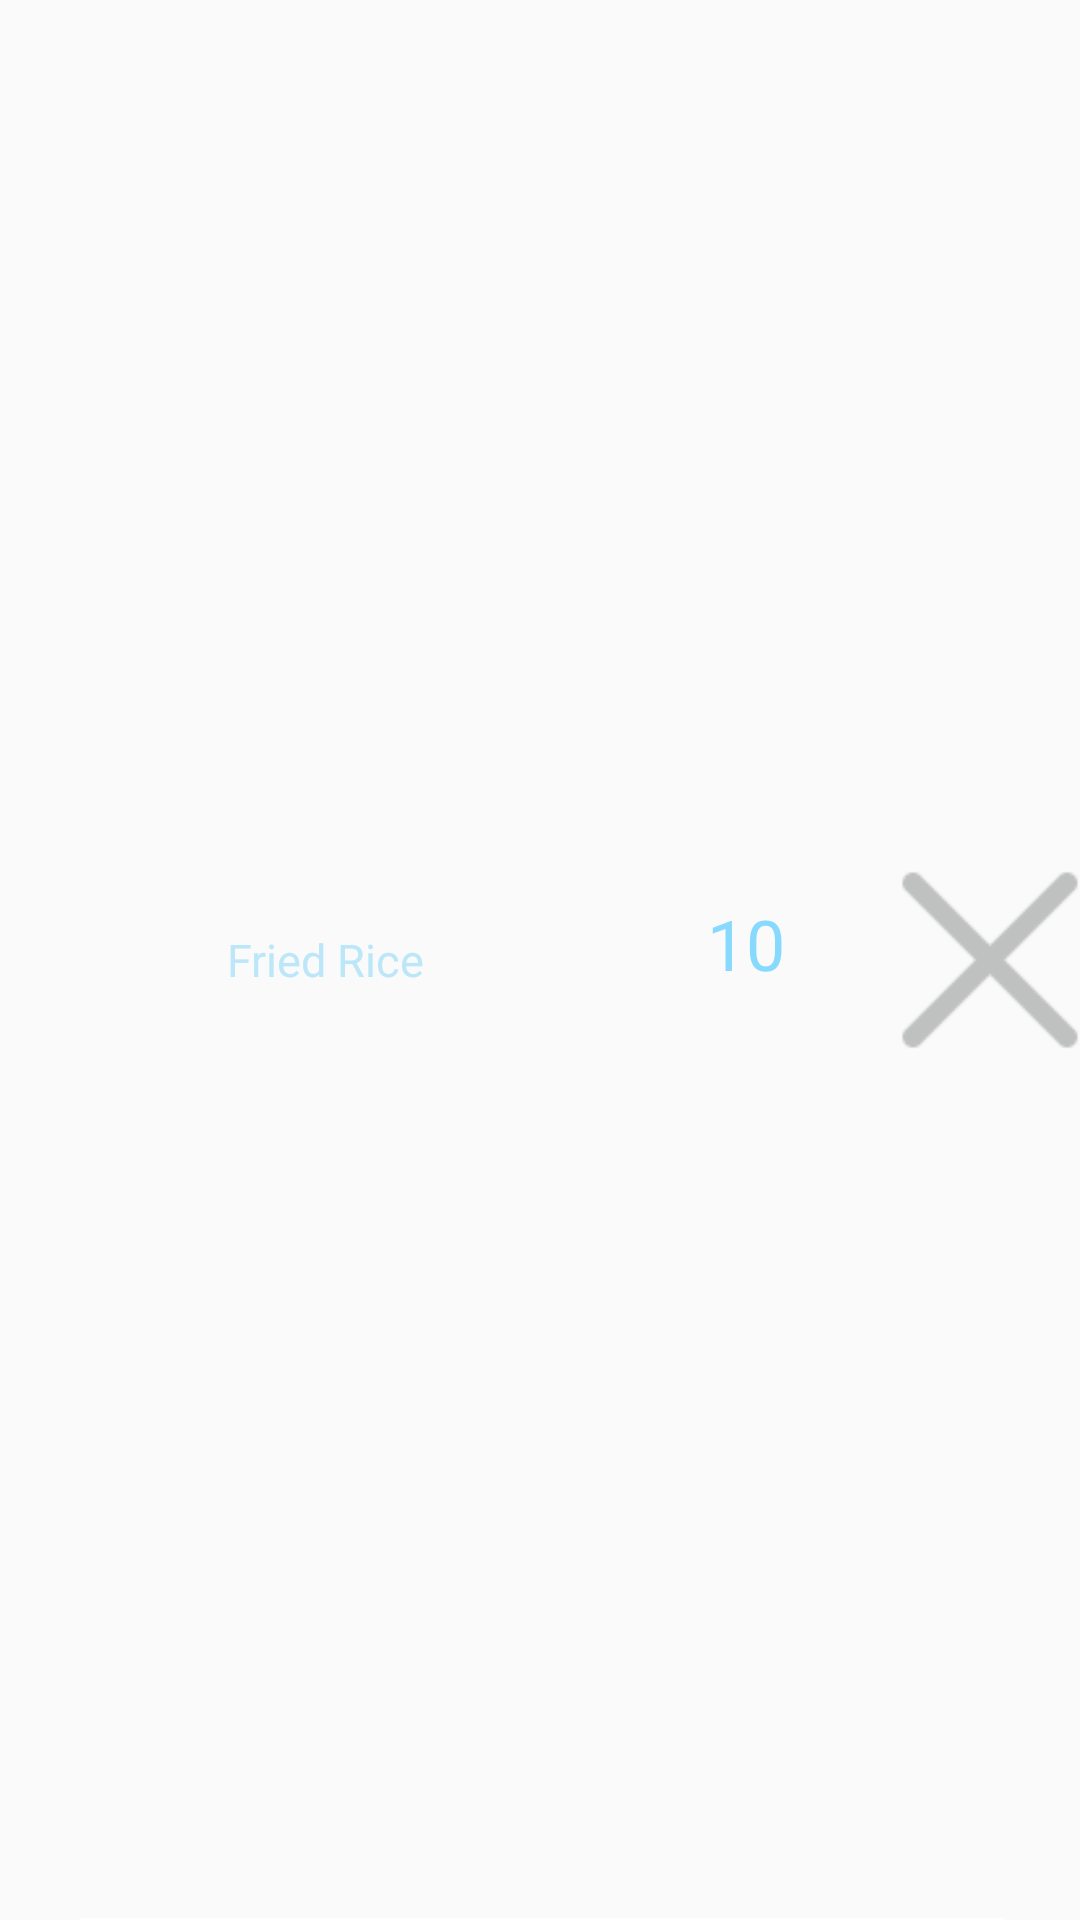

Icon bounding boxes for this 1080px x 1920px phone screenshot, format (x1, y1, x2, y2):
cancelorder: (902, 872, 1078, 1048)
